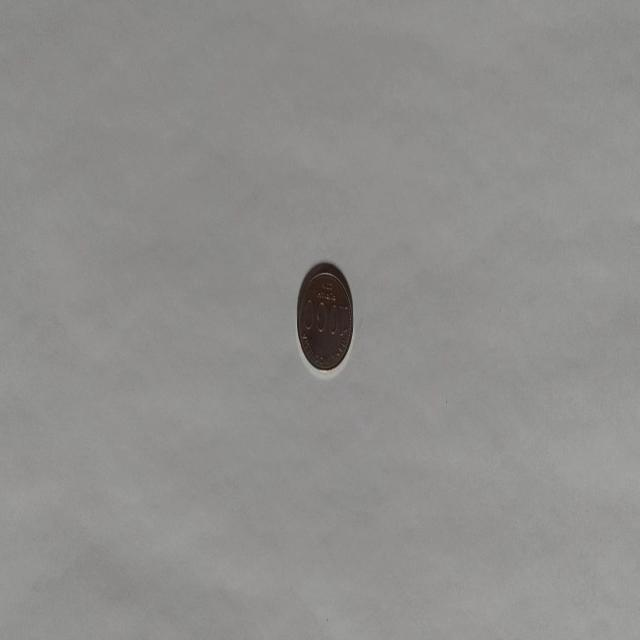seribu rupiah koin: (295, 260, 354, 377)
